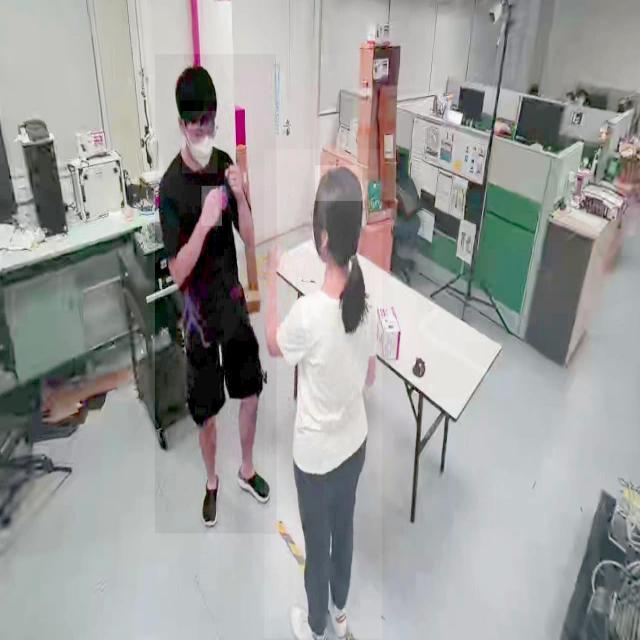face_mask: (182, 111, 218, 173)
hand_noglove: (202, 186, 222, 227), (224, 163, 247, 193), (265, 241, 280, 268)
head_nohelmet: (315, 165, 363, 202), (173, 62, 217, 101)
person: (155, 54, 277, 534), (264, 149, 382, 639)
shoes: (283, 595, 330, 640), (232, 458, 274, 508), (198, 470, 226, 531), (323, 586, 352, 640)
